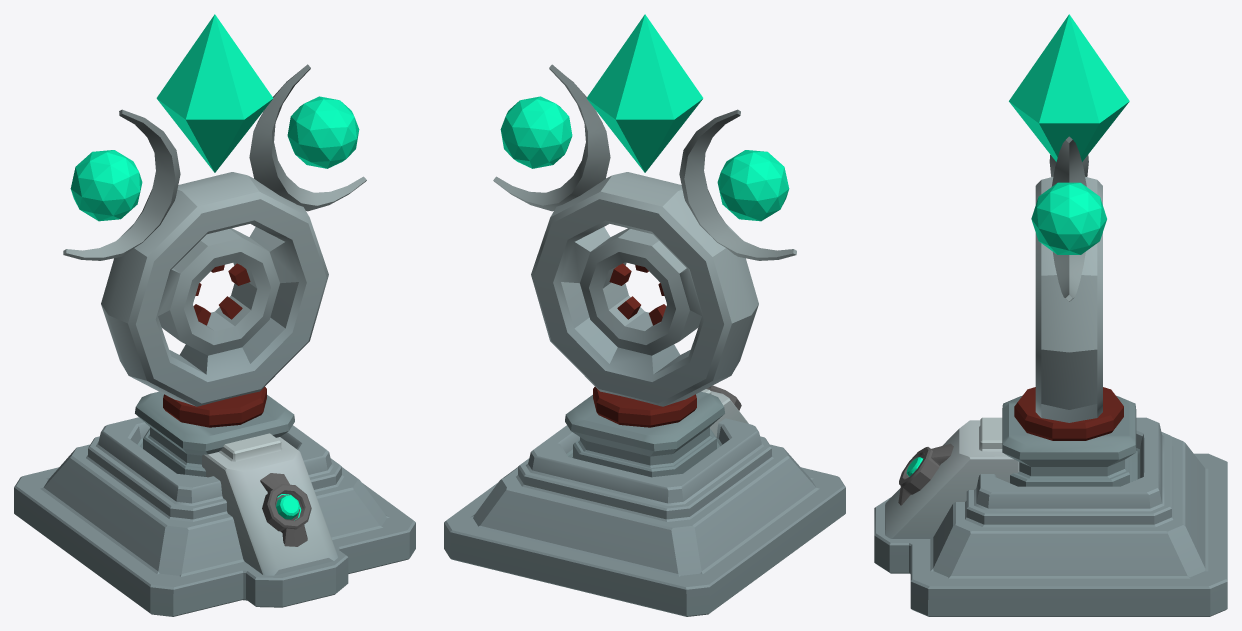
The model's file is ruin_statue.glb.
The picture shows the model from 3 angles, left to right: view 1: azimuth 30°, elevation 25°; view 2: azimuth 150°, elevation 25°; view 3: azimuth 270°, elevation 25°; orthographic projection. The views are drawn at different scales.
Visible parts, largest first — view 1: ruin_statue, ruin_statue.001, ruin_statue.003, ruin_statue.002; view 2: ruin_statue, ruin_statue.001, ruin_statue.003, ruin_statue.002; view 3: ruin_statue, ruin_statue.001, ruin_statue.002.
Part boxes in pixels (box(x1,y1,x2,y2)): ruin_statue: box(14, 64, 415, 616); ruin_statue.001: box(156, 14, 273, 172); ruin_statue.003: box(70, 150, 142, 221); ruin_statue.002: box(287, 96, 359, 168); ruin_statue: box(444, 64, 845, 616); ruin_statue.001: box(586, 14, 703, 172); ruin_statue.003: box(717, 150, 789, 221); ruin_statue.002: box(500, 96, 572, 168); ruin_statue: box(874, 136, 1227, 616); ruin_statue.001: box(1009, 14, 1129, 161); ruin_statue.002: box(1031, 182, 1106, 254).
Bounding box in the file's own units: 2.29 × 3.74 × 2.23.
1 material, 1 textured.
